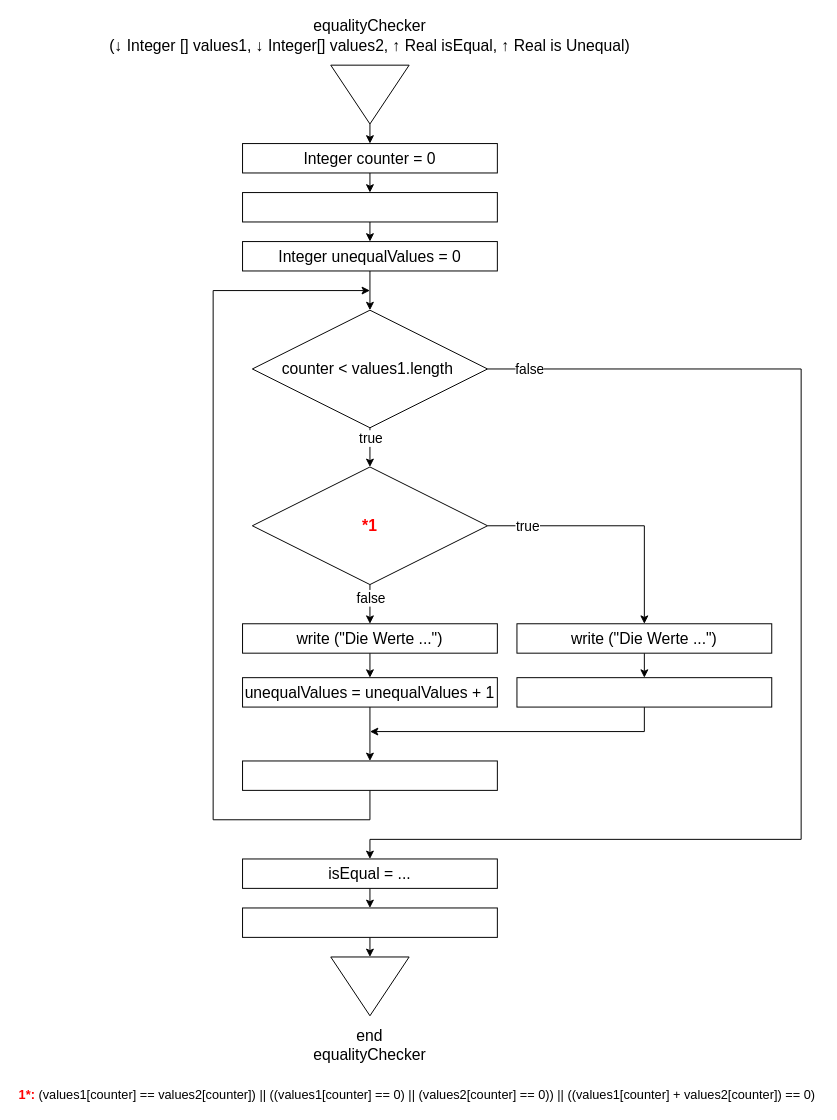
Image size: 837x1120. Some labels were removed from this diagram. The centre of each missing label's shape, as x and y in pixels:
"counter = counter + 1" goes at (x=369, y=775).
"equalValues = equalValues + 1" goes at (x=644, y=692).
"Integer equalValues = 0" goes at (x=369, y=207).
"isUnequal = ..." goes at (x=369, y=922).
